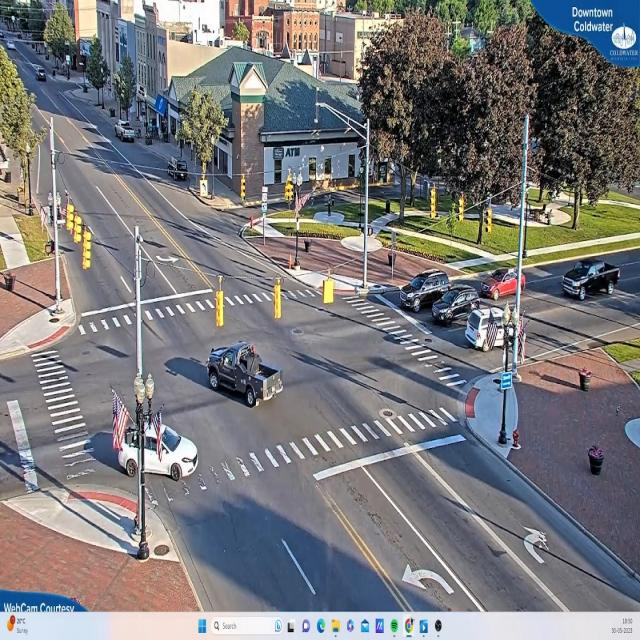car: (207, 343, 284, 408), (562, 261, 621, 300), (400, 272, 455, 313), (432, 290, 482, 327), (482, 270, 532, 302), (117, 122, 137, 142)
